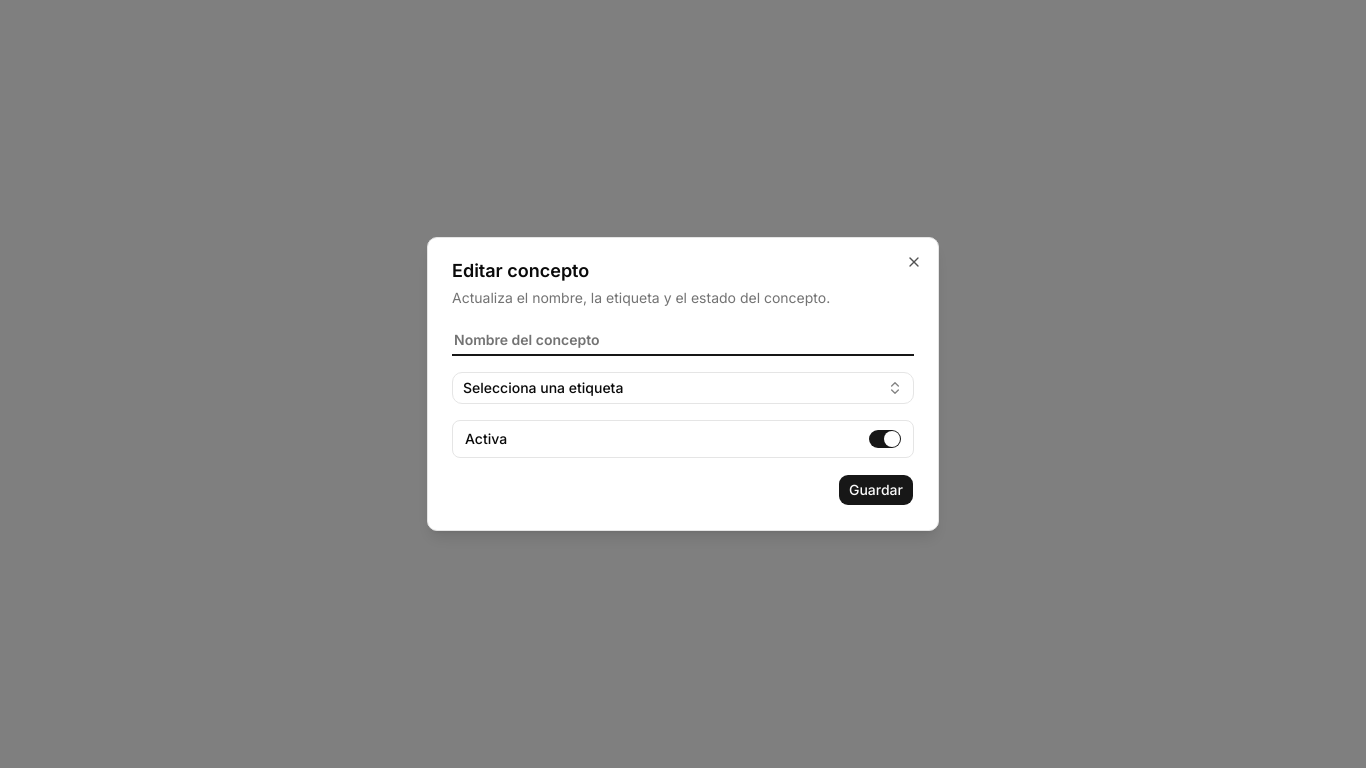
Test case: EditChartOfAccountForm › shows error when no item selected
Step 1. Type "Algo" into the field with placeholder "Nombre del concepto" → coordinates (683, 340), box [452,324,914,356]
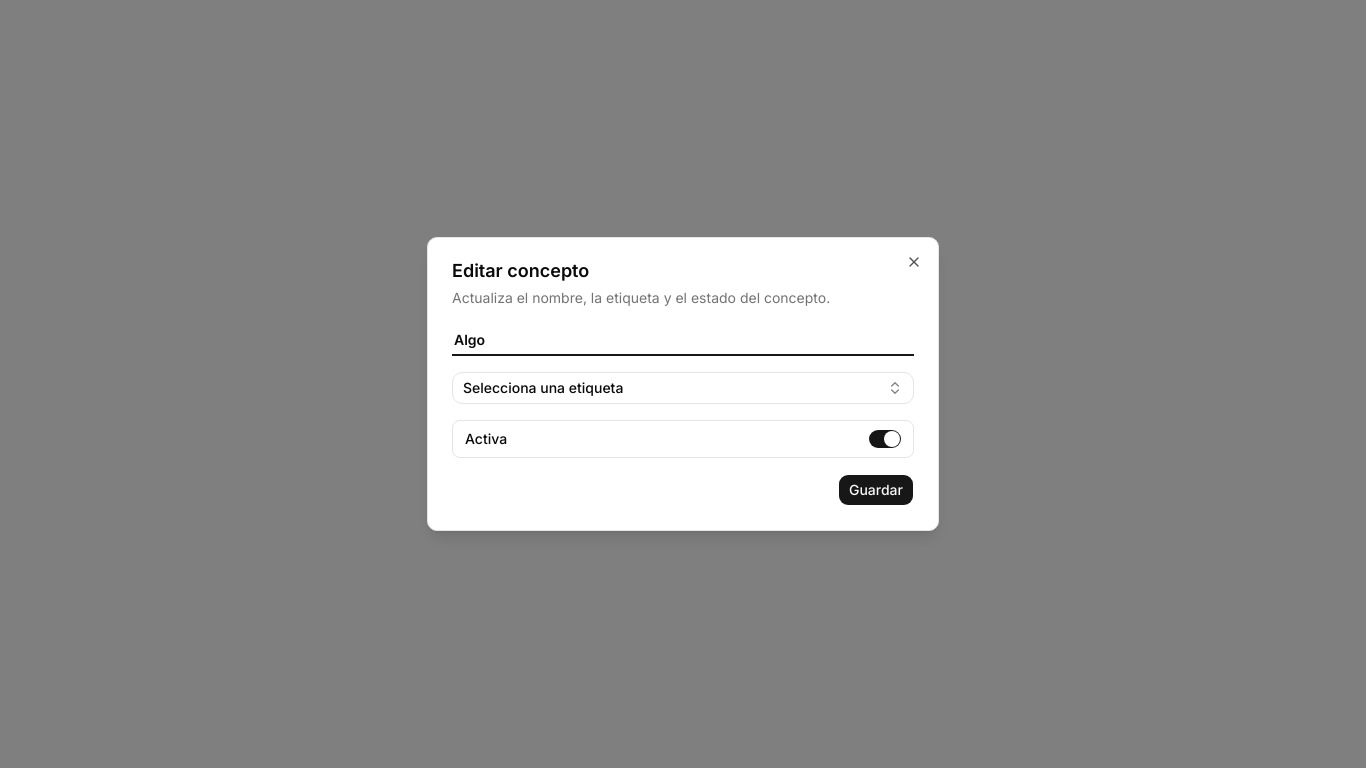
Step 2. Click the dropdown → coordinates (543, 388), box [452,372,914,404]
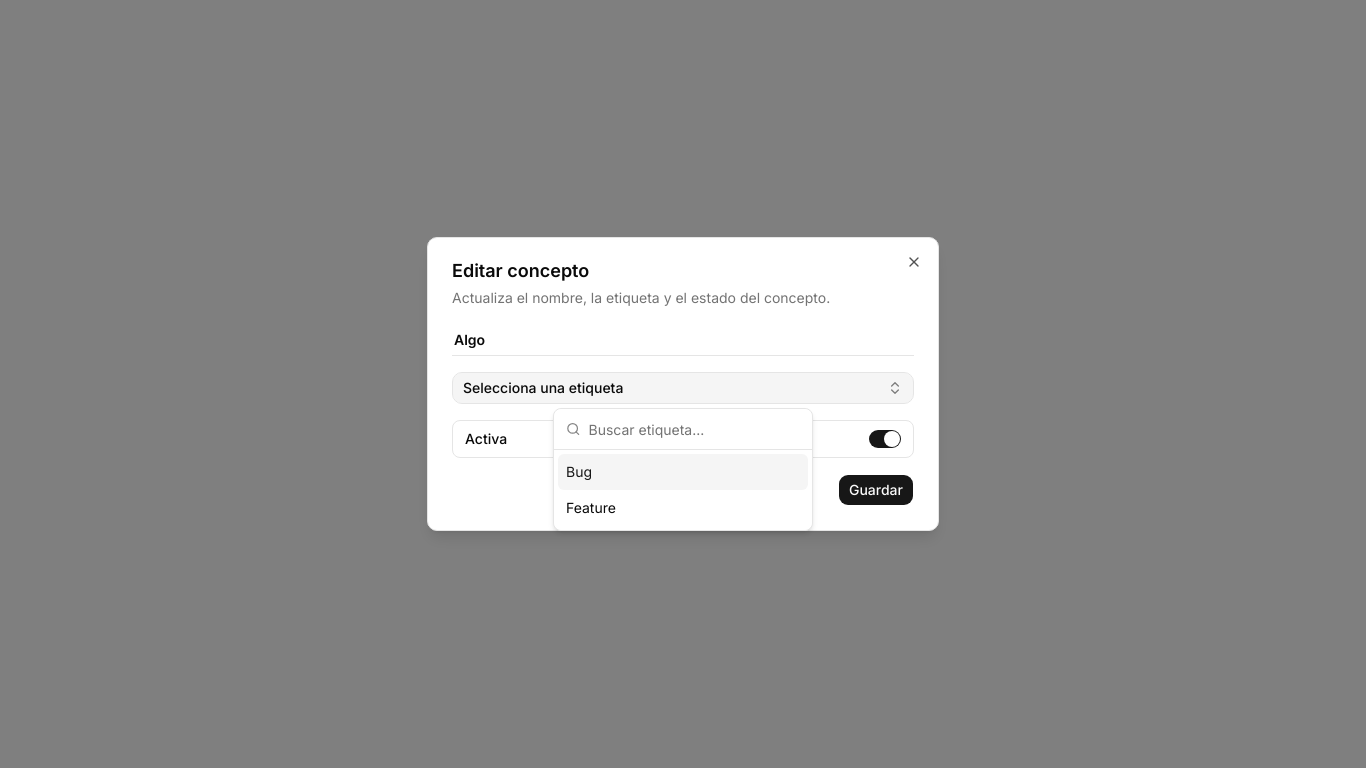
Step 3. Click the option "Bug" → coordinates (683, 472), box [558,454,808,490]
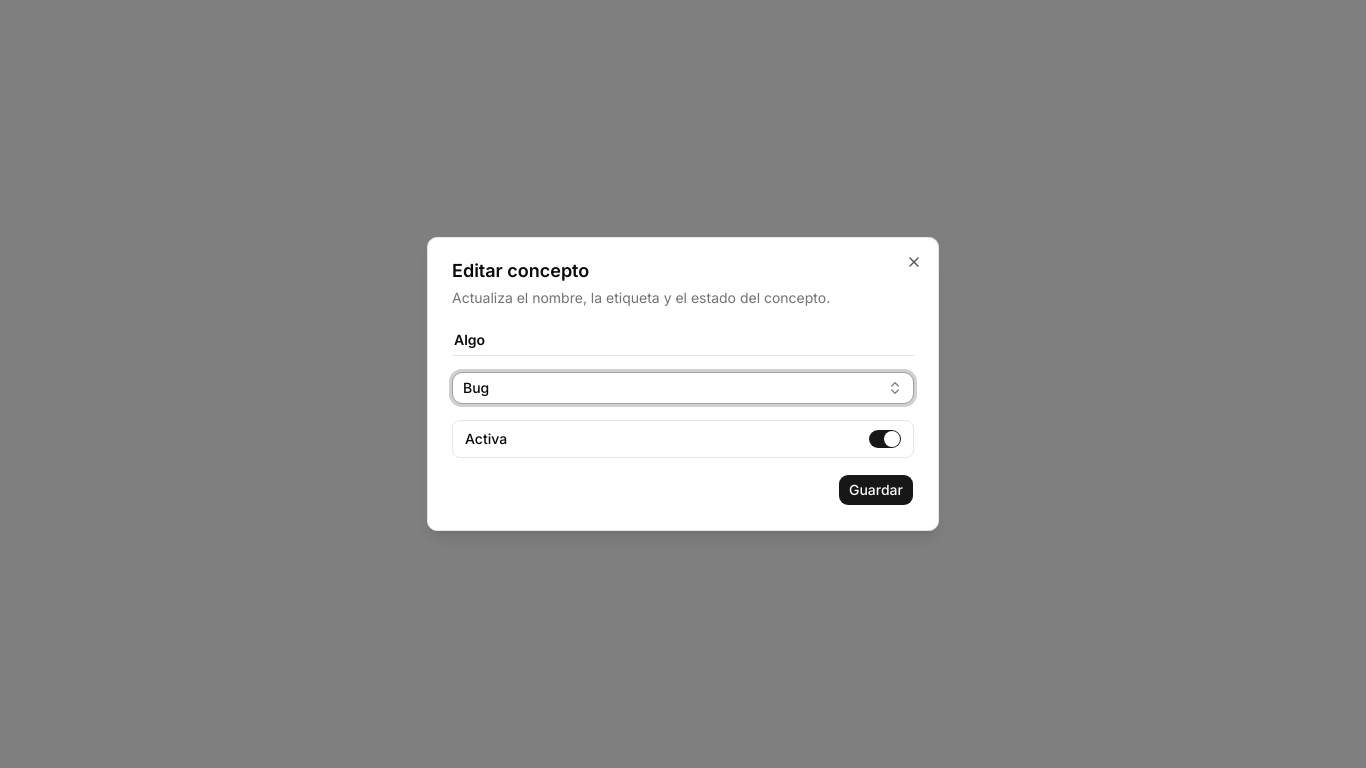
Step 4. Click the button "Guardar" → coordinates (876, 490), box [838,474,914,506]
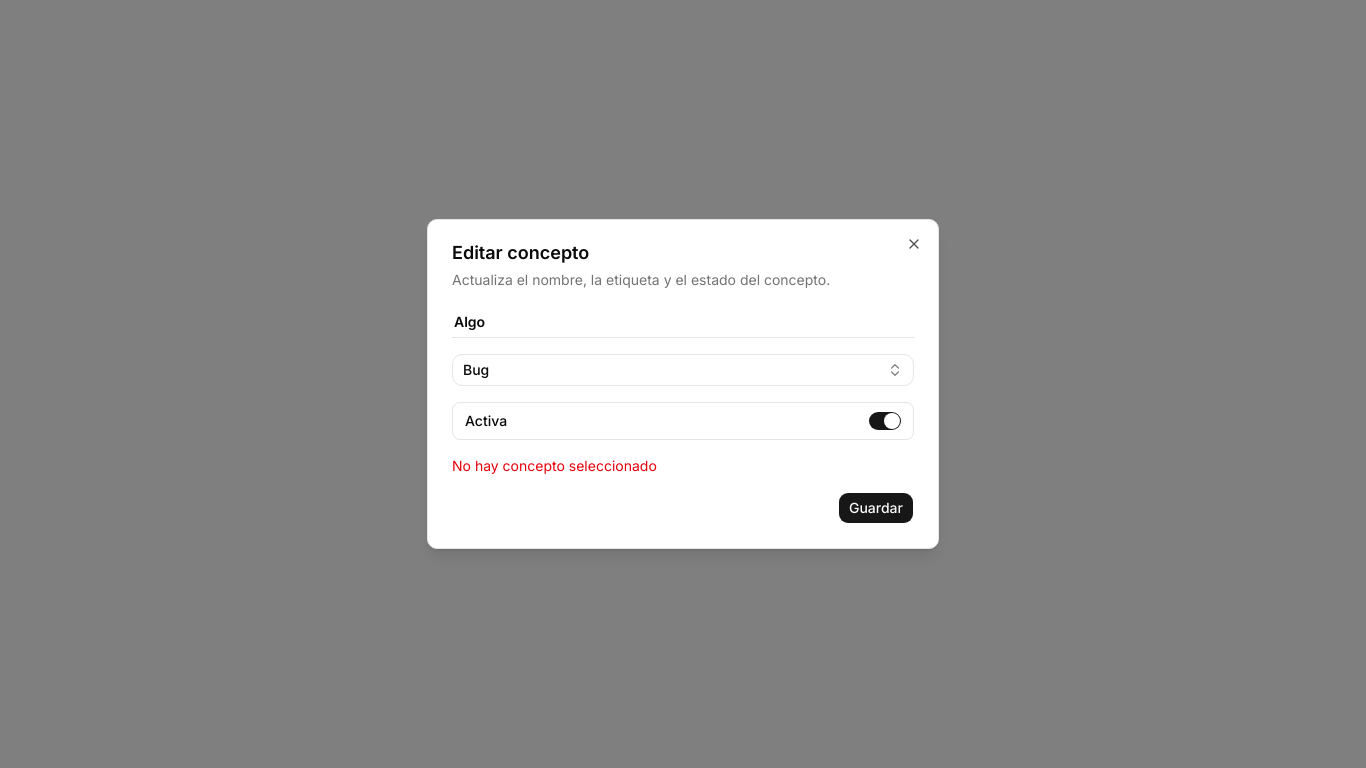
Result: the text "No hay concepto seleccionado" is shown at [452,457,657,474]
